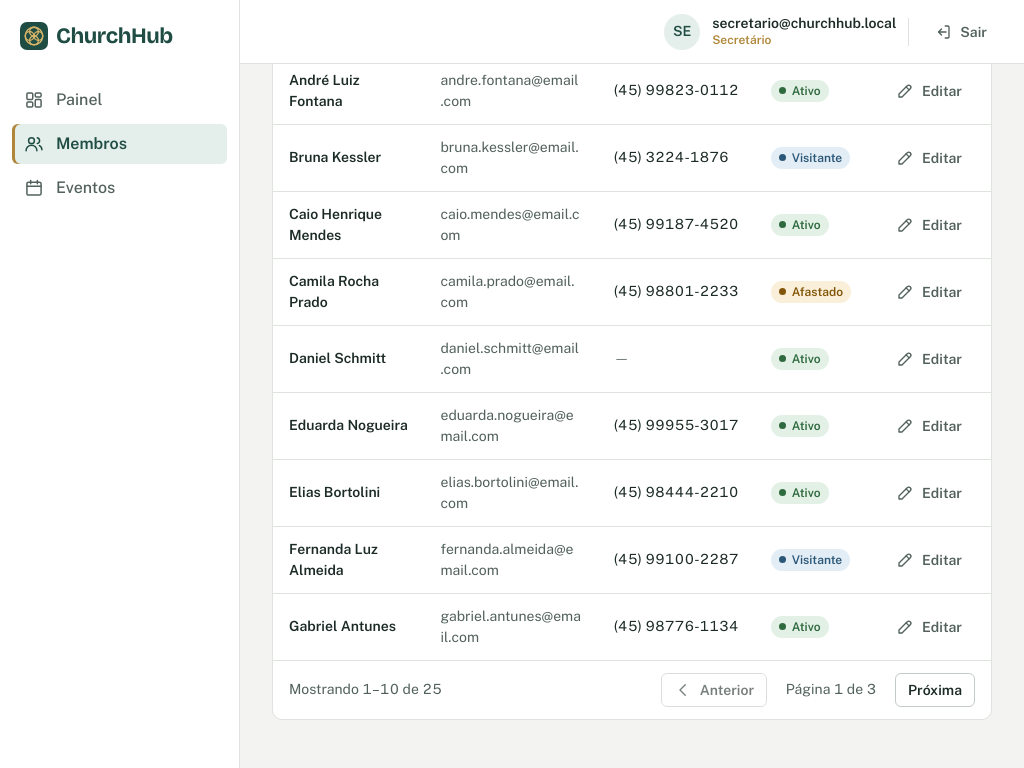
Test: listagem de membros: paginação › mostra 10 por página, ordenados por nome, e a próxima página vai para a URL
(page scrolled)
Check: the text "Mostrando 1–10 de 25" is shown, box x1=289 y1=679 x2=442 y2=700
Click the button "Próxima": (935, 690) x1=895 y1=673 x2=975 y2=707
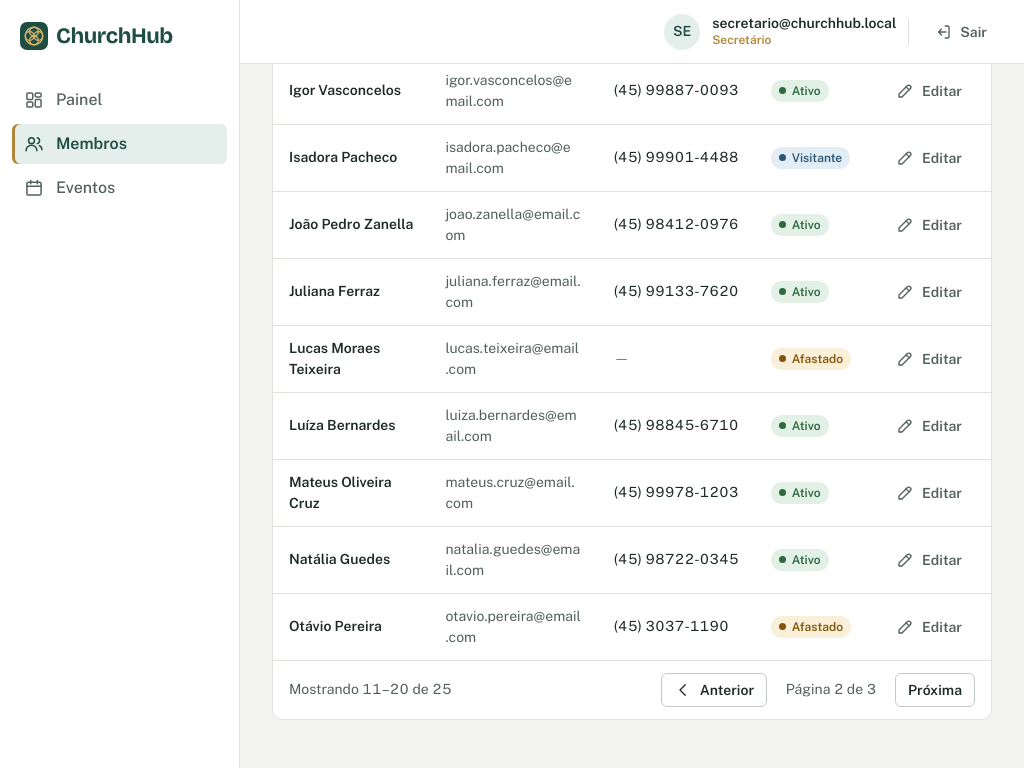
Check: the text "Mostrando 11–20 de 25" is shown, box x1=289 y1=679 x2=452 y2=700
